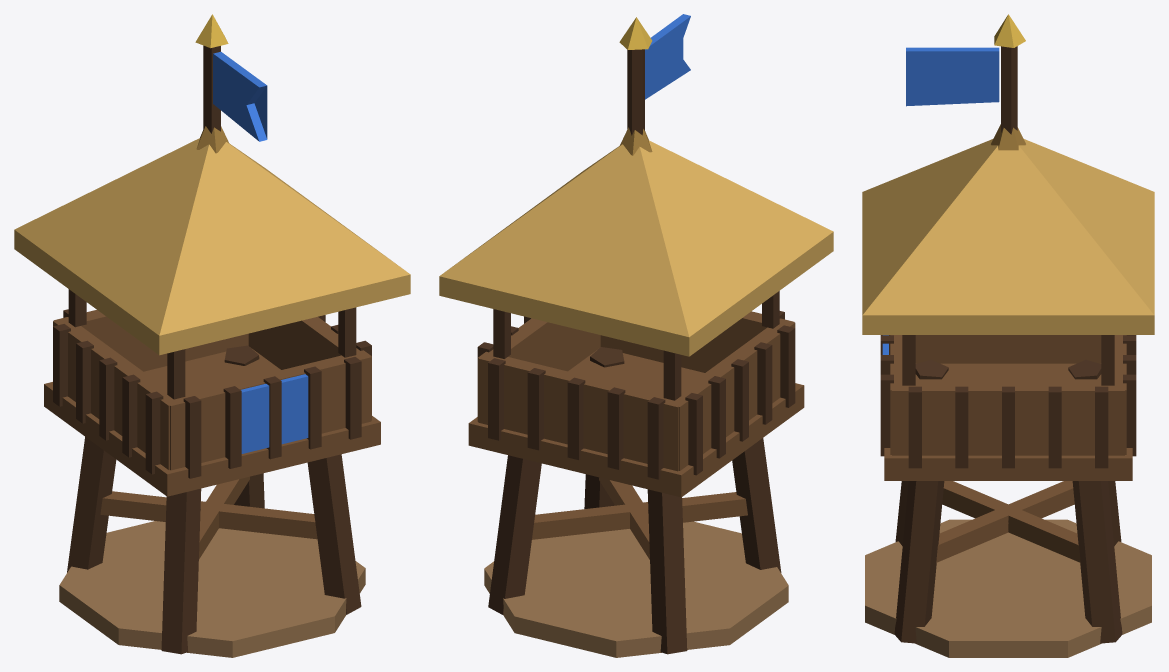
The model's file is wall_tower_0.glb.
The picture shows the model from 3 angles, left to right: view 1: azimuth 30°, elevation 25°; view 2: azimuth 150°, elevation 25°; view 3: azimuth 270°, elevation 25°; orthographic projection.
Parts seen in each view (by area): view 1: wall_tower_0; view 2: wall_tower_0; view 3: wall_tower_0.
Boxes of the visible parts, left/top/right/bottom form: wall_tower_0: left=14, top=14, right=410, bottom=657; wall_tower_0: left=439, top=14, right=833, bottom=657; wall_tower_0: left=862, top=14, right=1154, bottom=657.
Bounding box in the file's own units: 0.188 × 0.4157 × 0.188.
